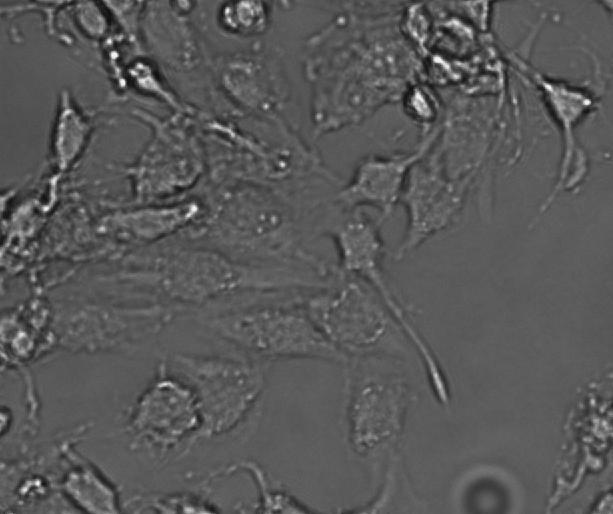Dead: (125, 59, 179, 103), (217, 1, 276, 38), (399, 1, 437, 54), (397, 79, 439, 126), (427, 48, 468, 87), (444, 11, 479, 47)
